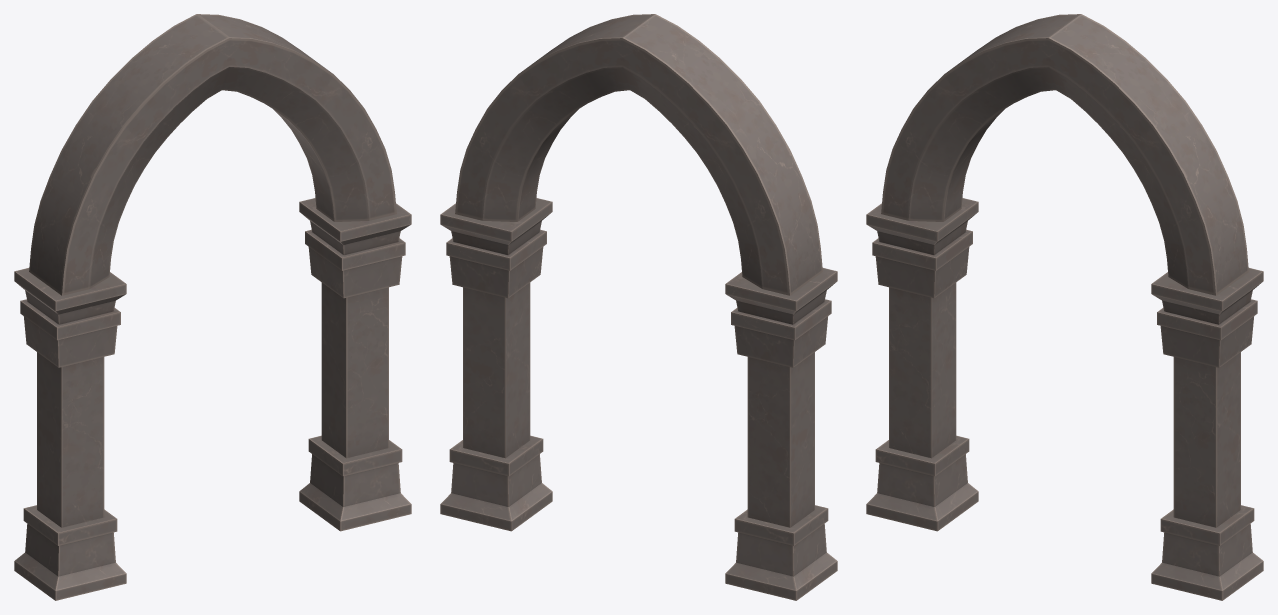
Rendered from Arch_A.fbx.
3 views of the same model, side by side, from view 1: azimuth 30°, elevation 25°; view 2: azimuth 150°, elevation 25°; view 3: azimuth 330°, elevation 25° (orthographic).
Visible parts, largest first — view 1: Arch_A; view 2: Arch_A; view 3: Arch_A.
Boxes of the visible parts, x1,y1,x2,y2 form: Arch_A: (14,14,411,600); Arch_A: (440,14,837,600); Arch_A: (866,14,1263,600).
Size of the model in its own units: 250 by 346 by 50.
